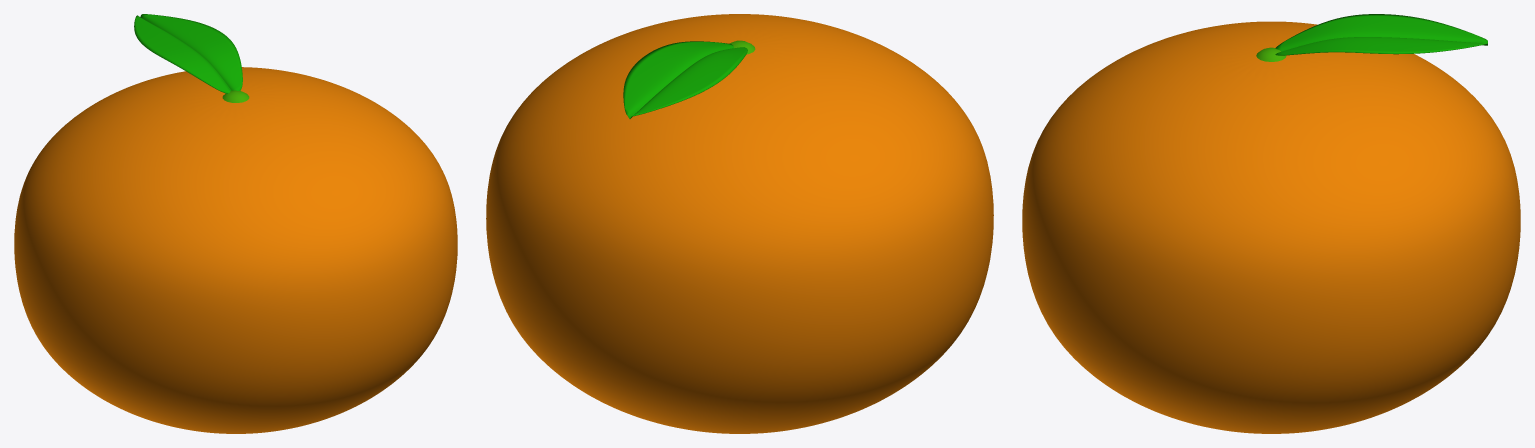
File: Orange.fbx
3 views of the same model, side by side, from view 1: azimuth 30°, elevation 25°; view 2: azimuth 150°, elevation 25°; view 3: azimuth 270°, elevation 25° (orthographic). The views are drawn at different scales.
Visible parts, largest first — view 1: Orange, Leaf; view 2: Orange, Leaf; view 3: Orange, Leaf.
Part boxes in pixels (x1,y1,x2,y2): Orange: (14,67,457,433); Leaf: (134,14,242,93); Orange: (486,14,993,433); Leaf: (623,41,747,118); Orange: (1022,21,1520,433); Leaf: (1275,14,1487,55).
Bounding box in the file's own units: 96.75 × 79.2 × 96.75.
